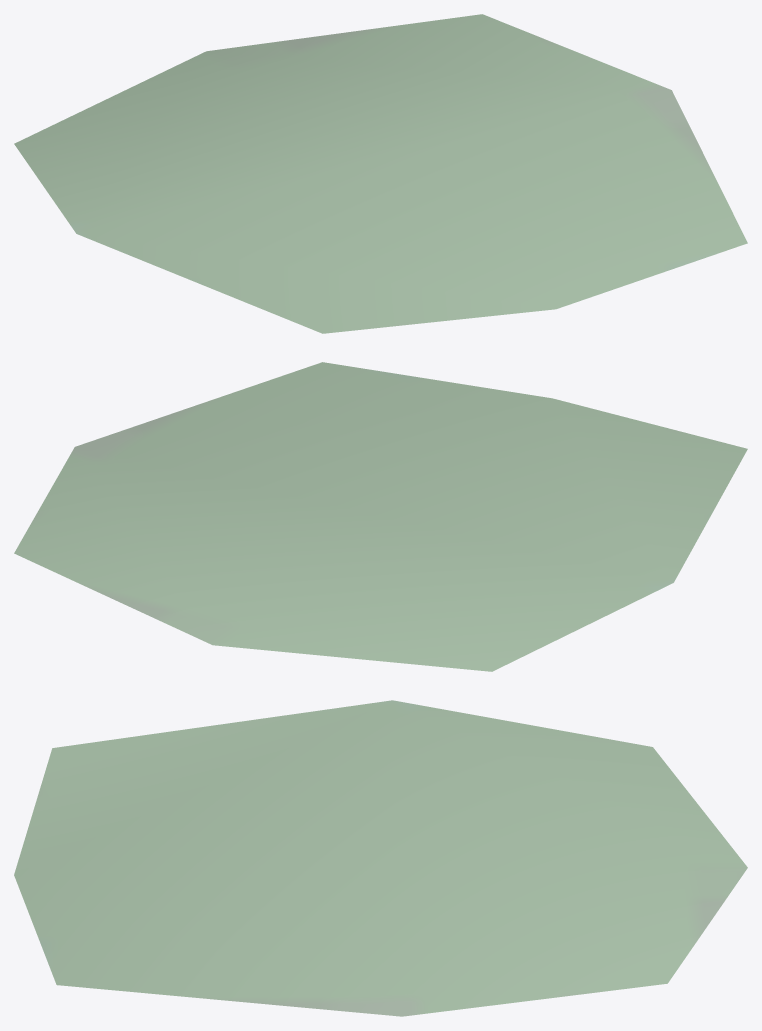
File: TROLLHOLE02_HOLECAP17.fbx
The picture shows the model from 3 angles, top to bottom: view 1: azimuth 30°, elevation 25°; view 2: azimuth 150°, elevation 25°; view 3: azimuth 270°, elevation 25°; orthographic projection. The views are drawn at different scales.
Parts seen in each view (by area): view 1: TROLLHOLE02_HOLECAP17; view 2: TROLLHOLE02_HOLECAP17; view 3: TROLLHOLE02_HOLECAP17.
Boxes of the visible parts, <box> form: TROLLHOLE02_HOLECAP17: <box>14,14,747,333</box>; TROLLHOLE02_HOLECAP17: <box>14,362,747,671</box>; TROLLHOLE02_HOLECAP17: <box>14,700,747,1016</box>.
Bounding box in the file's own units: 20091 × 593 × 20095.
1 material, 1 textured.
